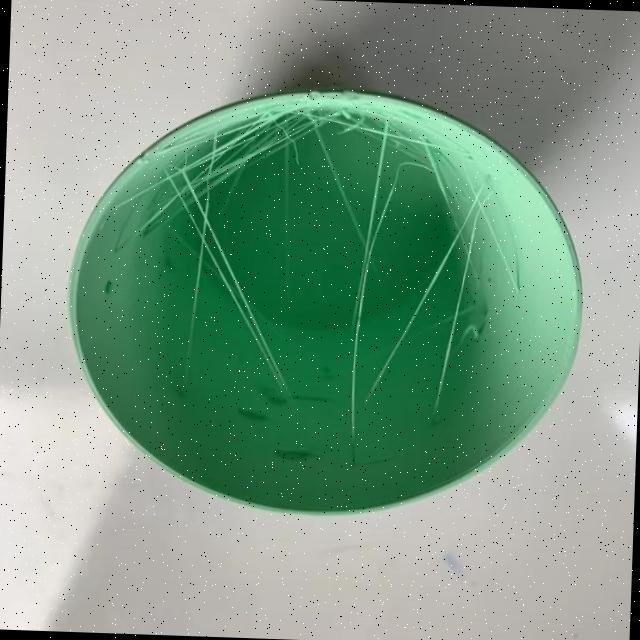stringing: (156, 158, 295, 409), (130, 101, 336, 238), (361, 191, 488, 401), (339, 116, 396, 440)
